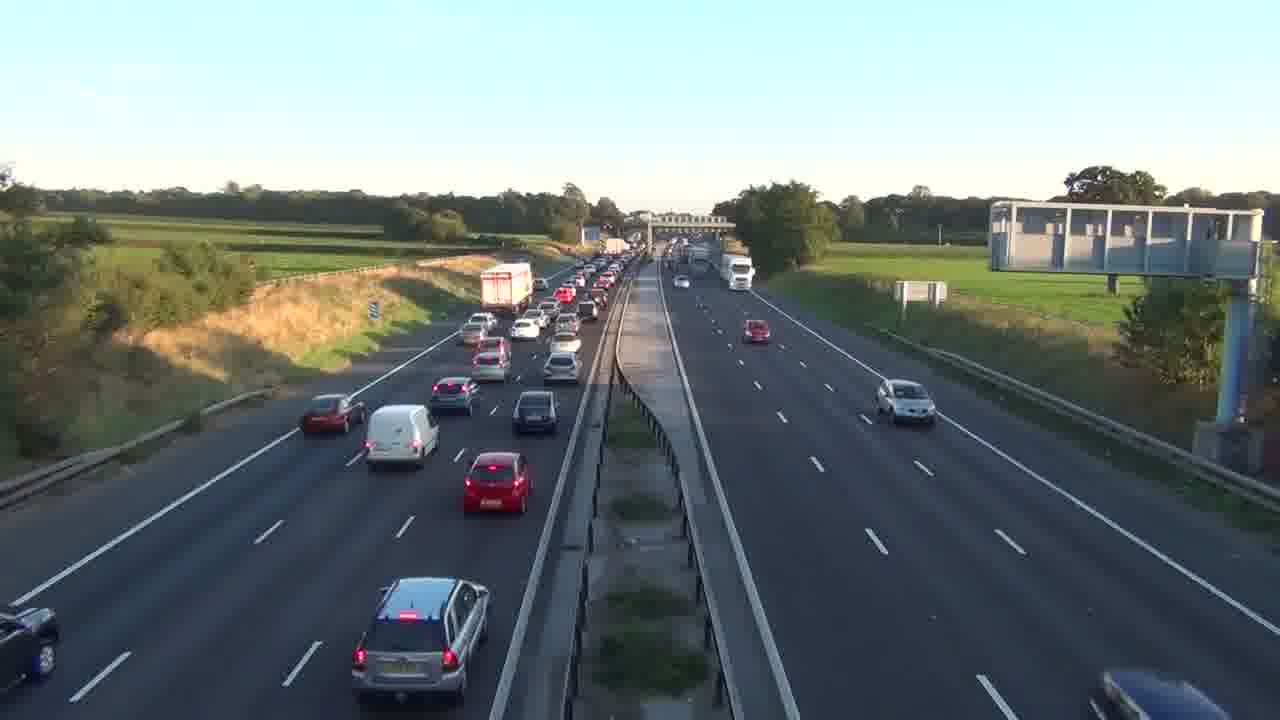car: (350, 575, 492, 707), (1084, 666, 1232, 719), (0, 601, 62, 693), (461, 451, 532, 514), (875, 377, 937, 425), (512, 389, 560, 435), (301, 393, 351, 436), (429, 375, 479, 416), (470, 336, 511, 382), (543, 351, 580, 384), (742, 318, 770, 344)
truck: (365, 403, 440, 470)
